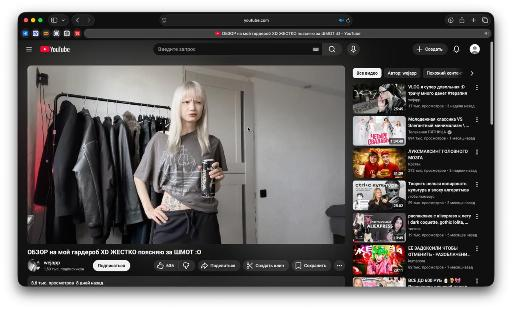youtube: (18, 40, 495, 288)
